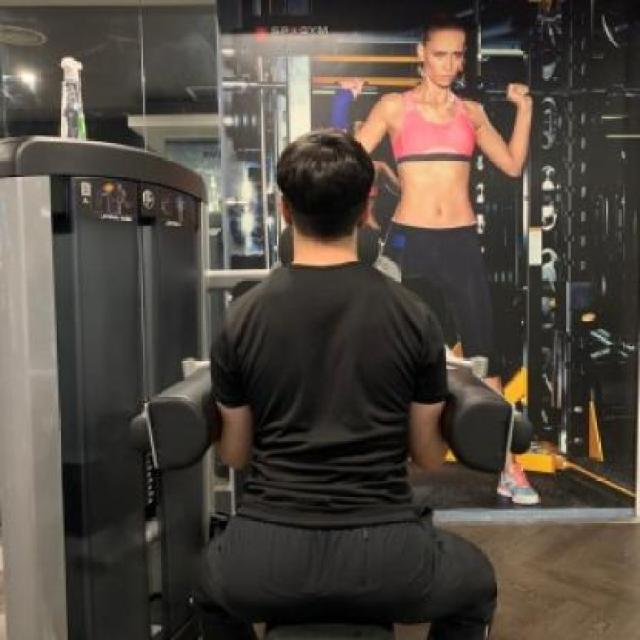lateral raises machine: (0, 272, 532, 639)
